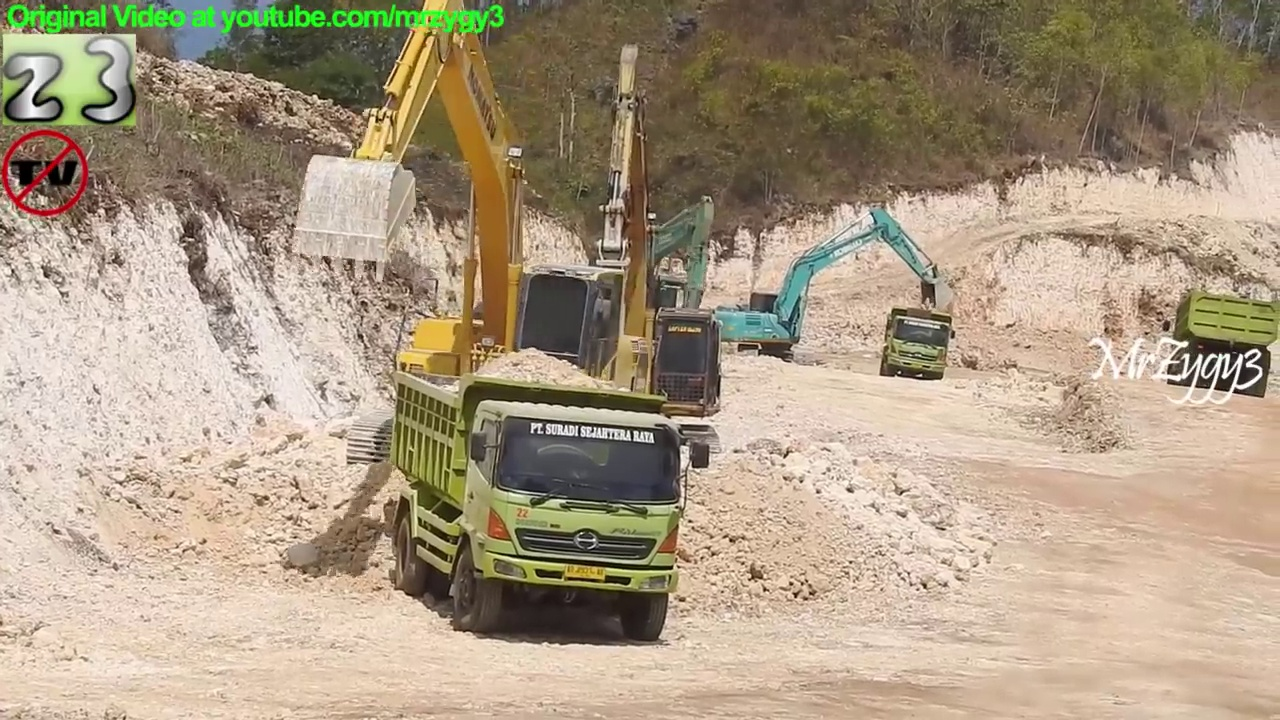excavator: (288, 3, 671, 482), (426, 5, 729, 474), (707, 199, 944, 365)
truck: (386, 368, 716, 645), (1165, 285, 1280, 409), (875, 305, 958, 385)
